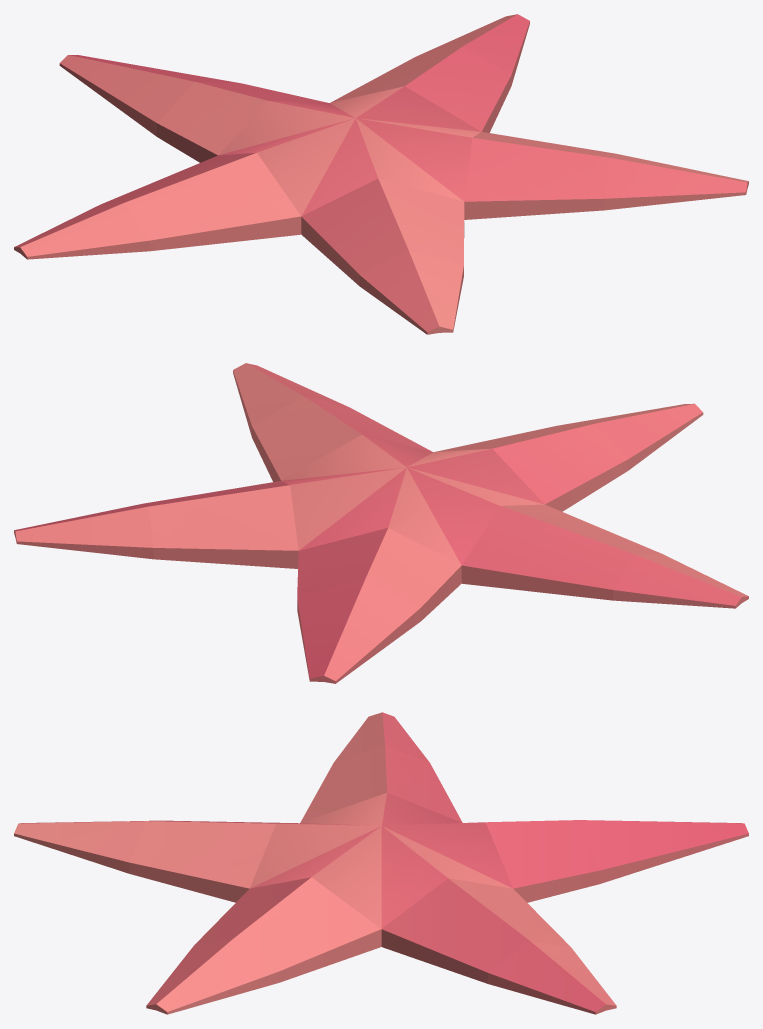
The model's file is Msh_Star.fbx.
3 renders of one model, top to bottom at view 1: azimuth 30°, elevation 25°; view 2: azimuth 150°, elevation 25°; view 3: azimuth 270°, elevation 25°, orthographic. The views are drawn at different scales.
Parts seen in each view (by area): view 1: Msh_Star; view 2: Msh_Star; view 3: Msh_Star.
Boxes of the visible parts, x1=… form: Msh_Star: x1=14, y1=14, x2=748, y2=334; Msh_Star: x1=14, y1=363, x2=748, y2=683; Msh_Star: x1=14, y1=712, x2=748, y2=1014.
Size of the model in its own units: 42.33 by 4.08 by 44.51.
